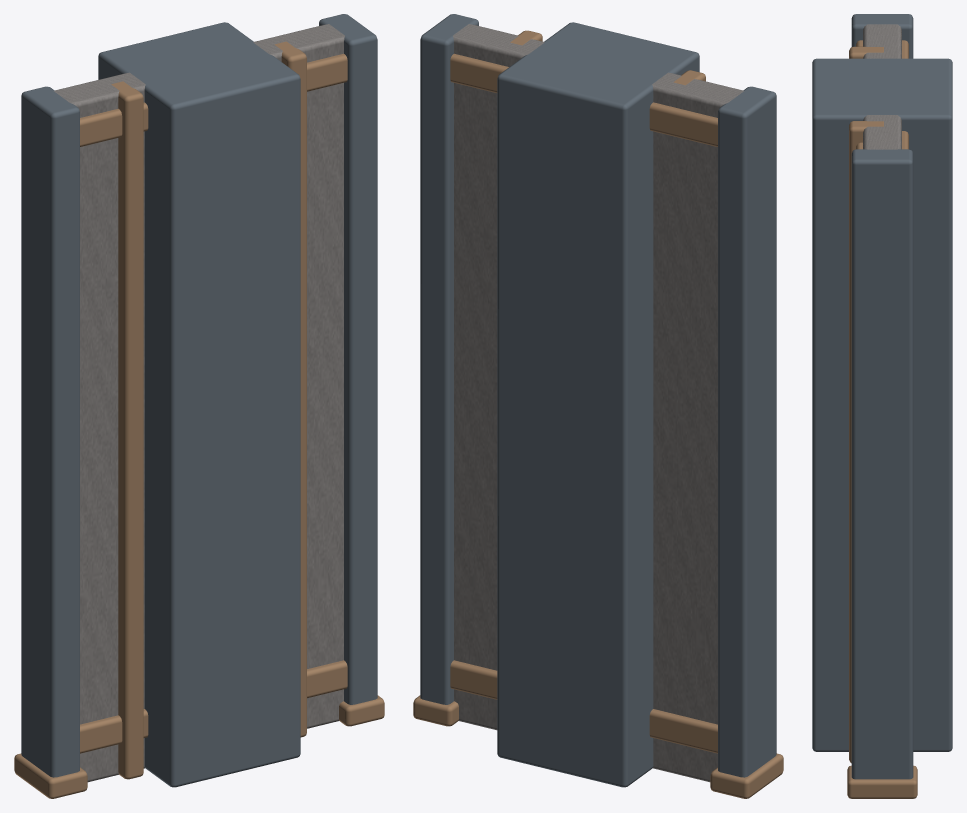
Rendered from arena-shooter-map-kit-wall-pillar-89d491ca__23065.glb.
3 renders of one model, left to right at view 1: azimuth 30°, elevation 25°; view 2: azimuth 150°, elevation 25°; view 3: azimuth 270°, elevation 25°, orthographic. The views are drawn at different scales.
Parts seen in each view (by area): view 1: wall-pillar; view 2: wall-pillar; view 3: wall-pillar.
Boxes of the visible parts, box(x1,y1,x2,y2) form: wall-pillar: box(14, 14, 384, 798); wall-pillar: box(413, 14, 783, 798); wall-pillar: box(812, 14, 952, 798).
Size of the model in its own units: 2.06 by 4 by 0.7998.
Materials: 3 (1 with a texture image).
